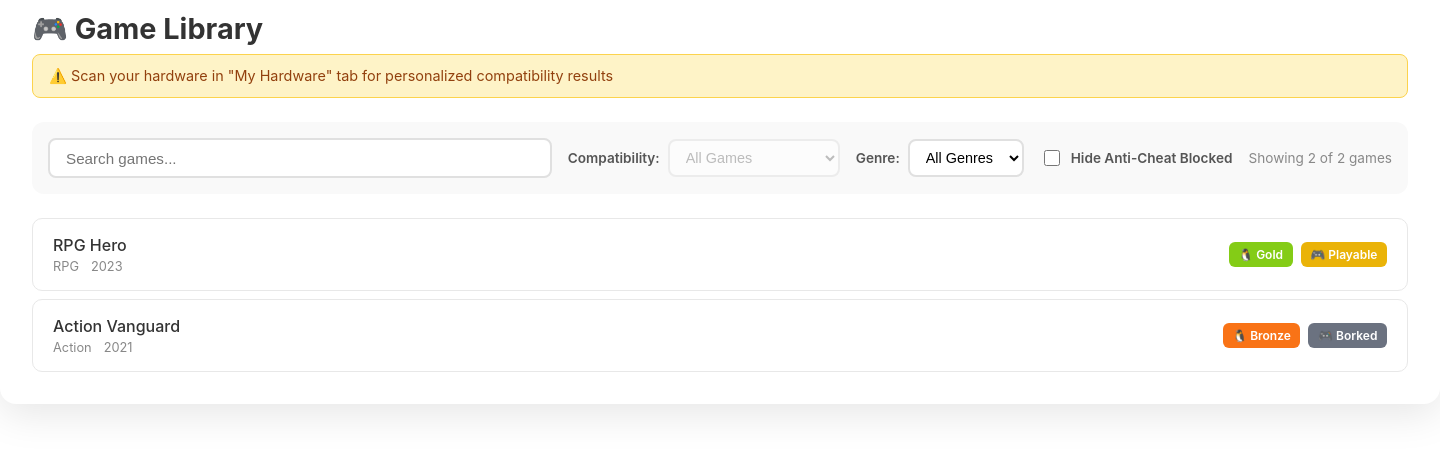
Scenario: GameLibrary › filters games by search query and shows empty state
Check: the text "Showing 2 of 2 games" is shown, box top-left (1248, 150), bottom-right (1392, 166)
Type "Action" into the field with placeholder "Search games..." at (300, 158), box top-left (48, 138), bottom-right (552, 178)
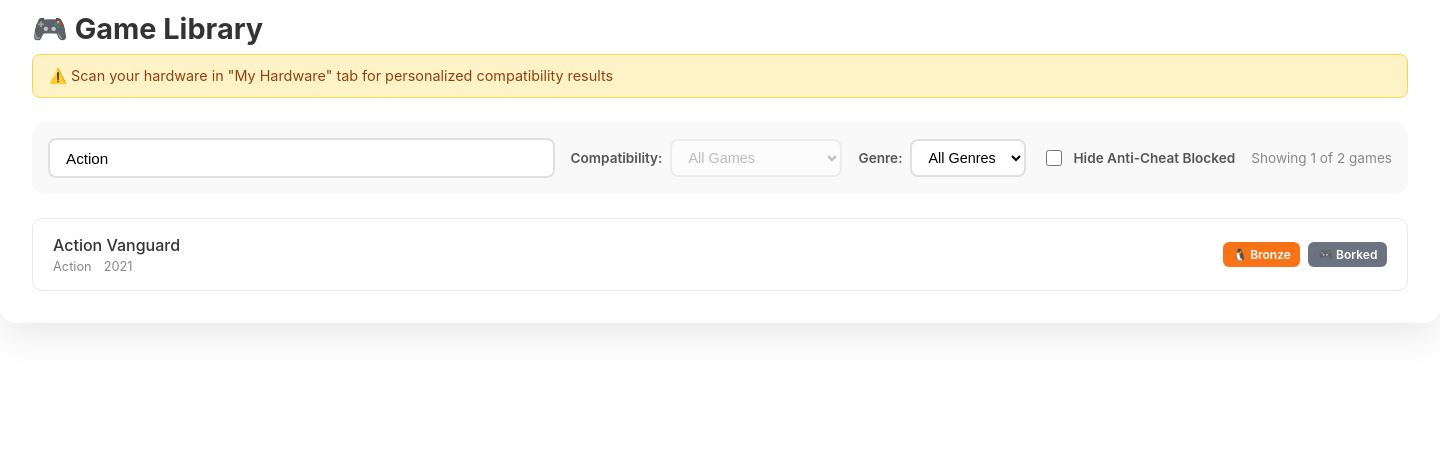
Check: the text "Showing 1 of 2 games" is shown, box top-left (1251, 150), bottom-right (1392, 166)
Replace the text in the field with placeholder "Search games..." with "Missing" at (301, 158), box top-left (48, 138), bottom-right (555, 178)
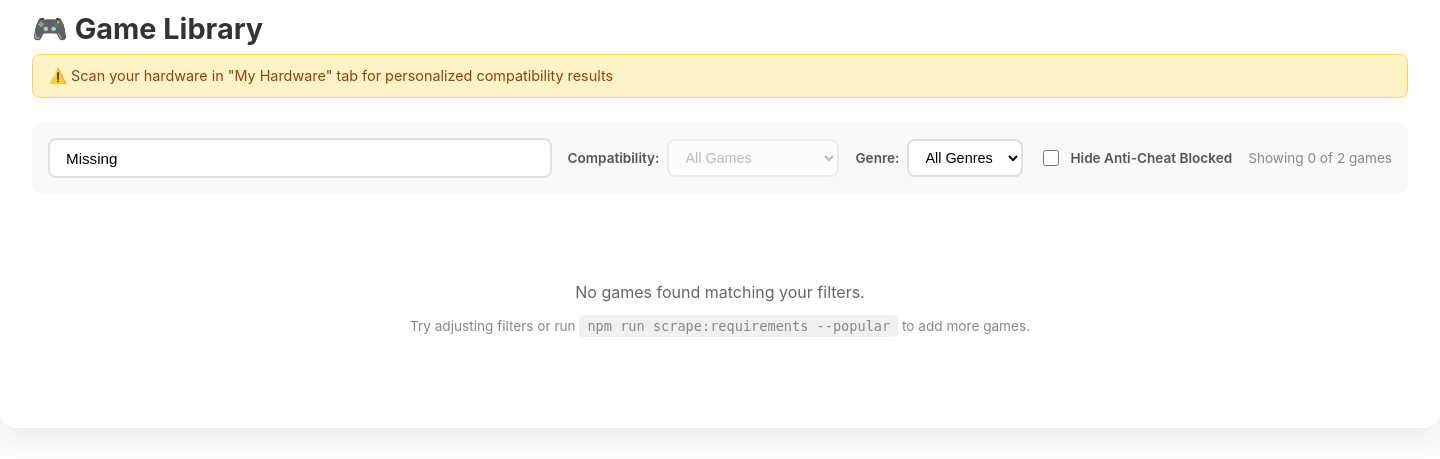
Check: the text "No games found matching your filters." is shown, box top-left (575, 282), bottom-right (865, 302)
